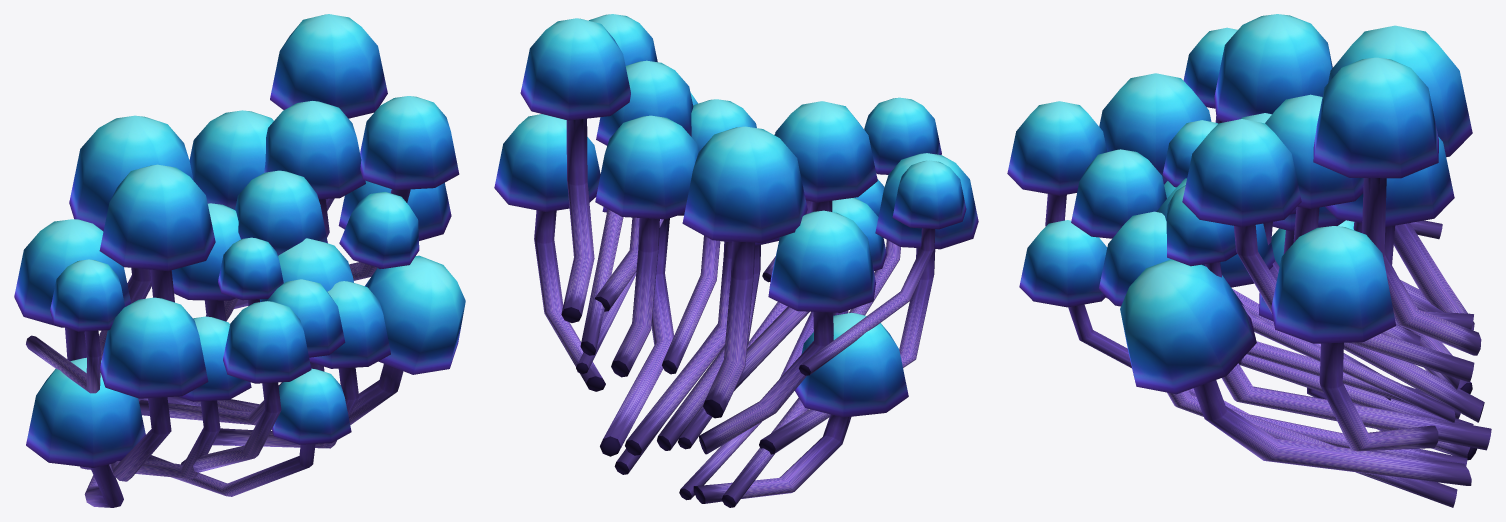
File: Mushroom19.fbx
3 renders of one model, left to right at view 1: azimuth 30°, elevation 25°; view 2: azimuth 150°, elevation 25°; view 3: azimuth 270°, elevation 25°, orthographic. The views are drawn at different scales.
Parts seen in each view (by area): view 1: Mushroom19; view 2: Mushroom19; view 3: Mushroom19.
Part boxes in pixels (x1,y1,x2,y2): Mushroom19: [14, 14, 465, 507]; Mushroom19: [494, 14, 978, 507]; Mushroom19: [1007, 14, 1491, 507].
Bounding box in the file's own units: 2.19 × 2.12 × 1.86.
